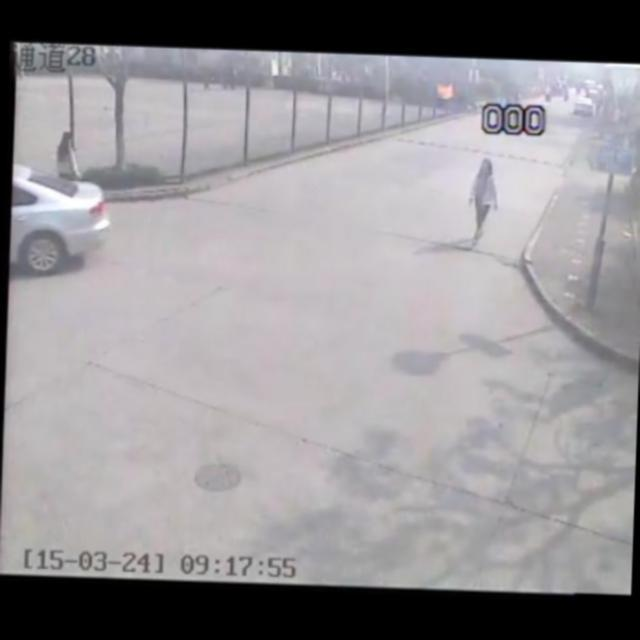person: (460, 150, 508, 259), (39, 122, 90, 207)
